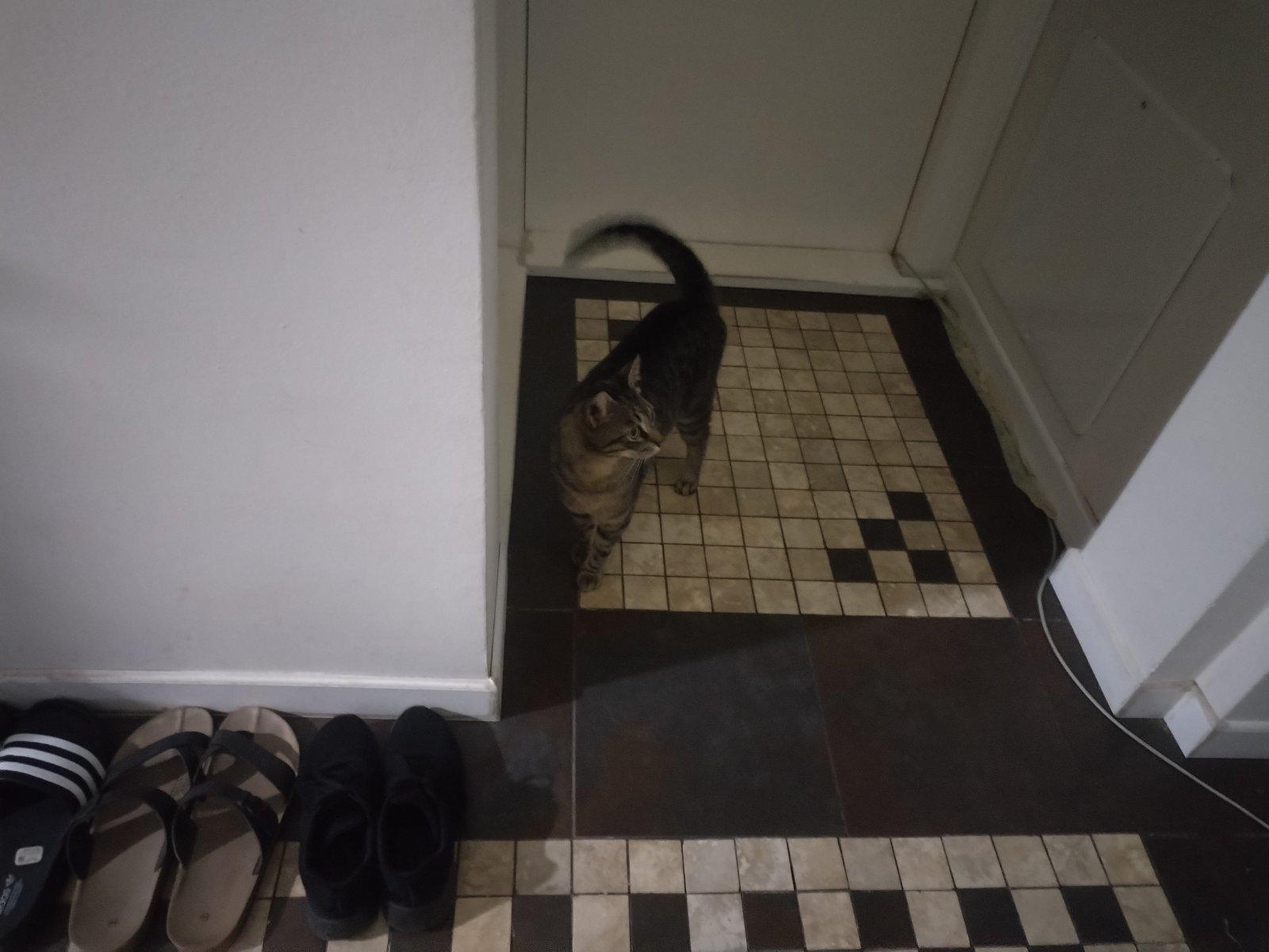macka: (527, 205, 740, 603)
